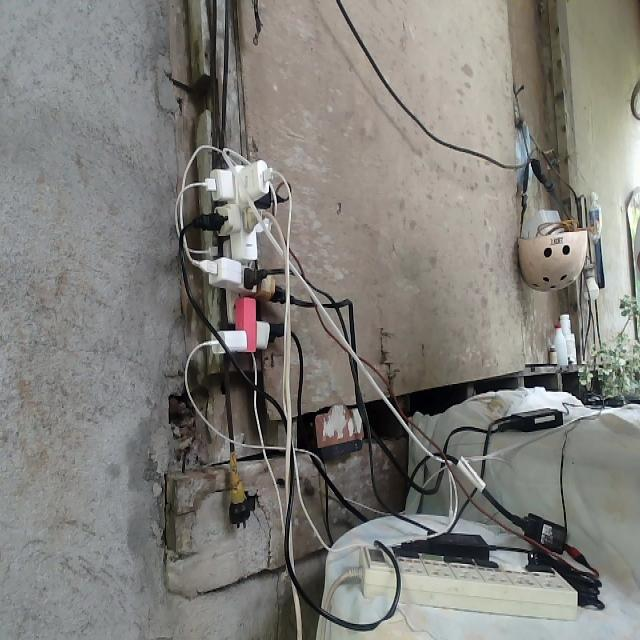-: (173, 144, 293, 355)
